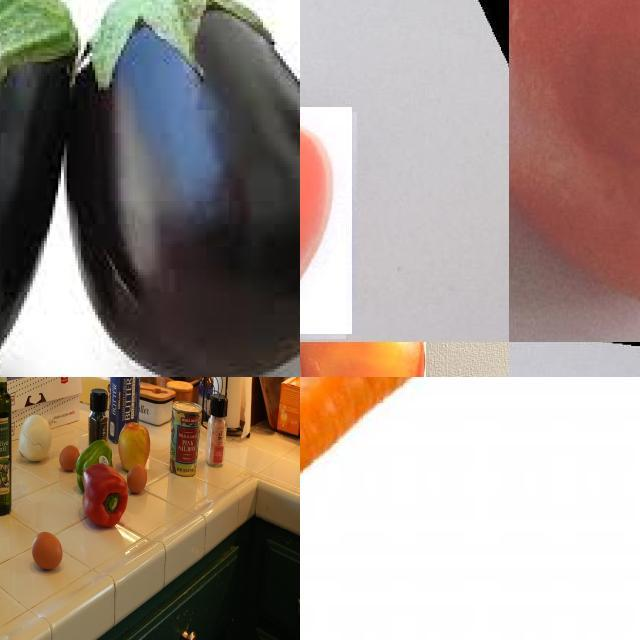bell_pepper: (83, 469, 133, 533), (75, 443, 115, 493), (88, 387, 110, 454)
carrot: (301, 378, 464, 611)
egg: (29, 530, 66, 574), (59, 441, 81, 471), (126, 471, 153, 495)
eggplant: (62, 1, 301, 378), (1, 1, 79, 378)
onion: (16, 417, 56, 463)
tomato: (301, 108, 353, 335), (301, 343, 426, 378)
